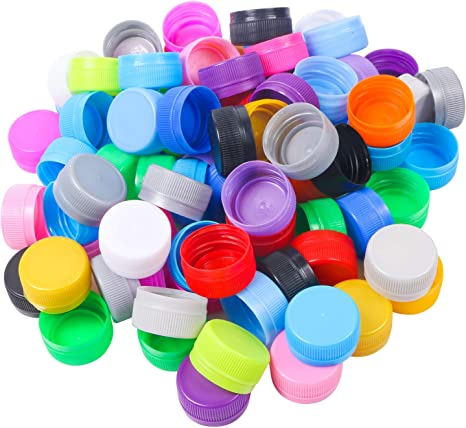PlasticCap: (264, 99, 336, 176), (98, 199, 171, 272), (288, 287, 359, 362), (366, 224, 434, 294), (182, 225, 253, 291), (346, 72, 415, 139), (40, 300, 112, 364), (193, 323, 264, 382), (53, 152, 125, 210), (25, 234, 84, 302), (140, 161, 210, 216), (105, 85, 161, 152), (208, 106, 252, 171), (5, 178, 41, 242), (11, 109, 56, 158), (118, 53, 183, 86)
